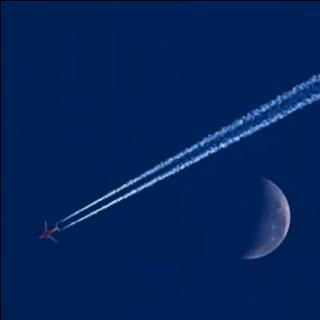Contrails: (49, 62, 320, 228)
